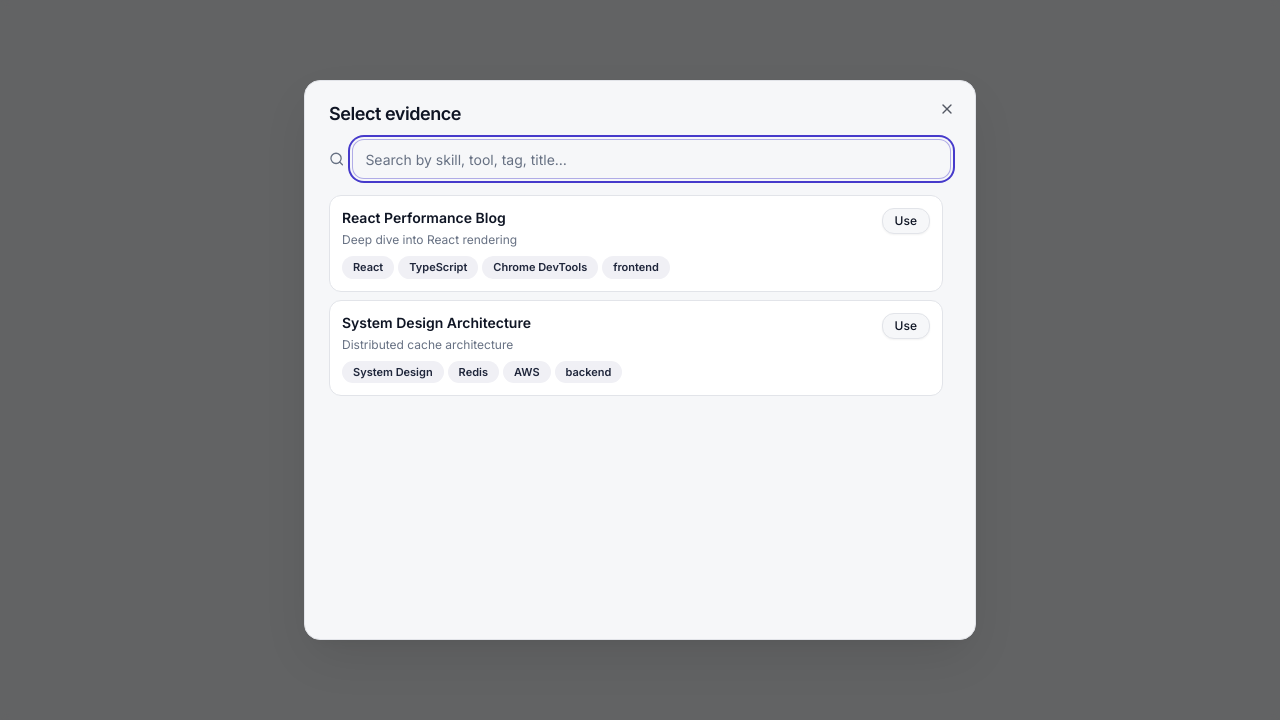
Test: EvidencePicker › filters evidence items by skill search
In the field with placeholder "Search by skill, tool, tag, title…": (652, 159) 352,139 -> 951,179, type "redis"
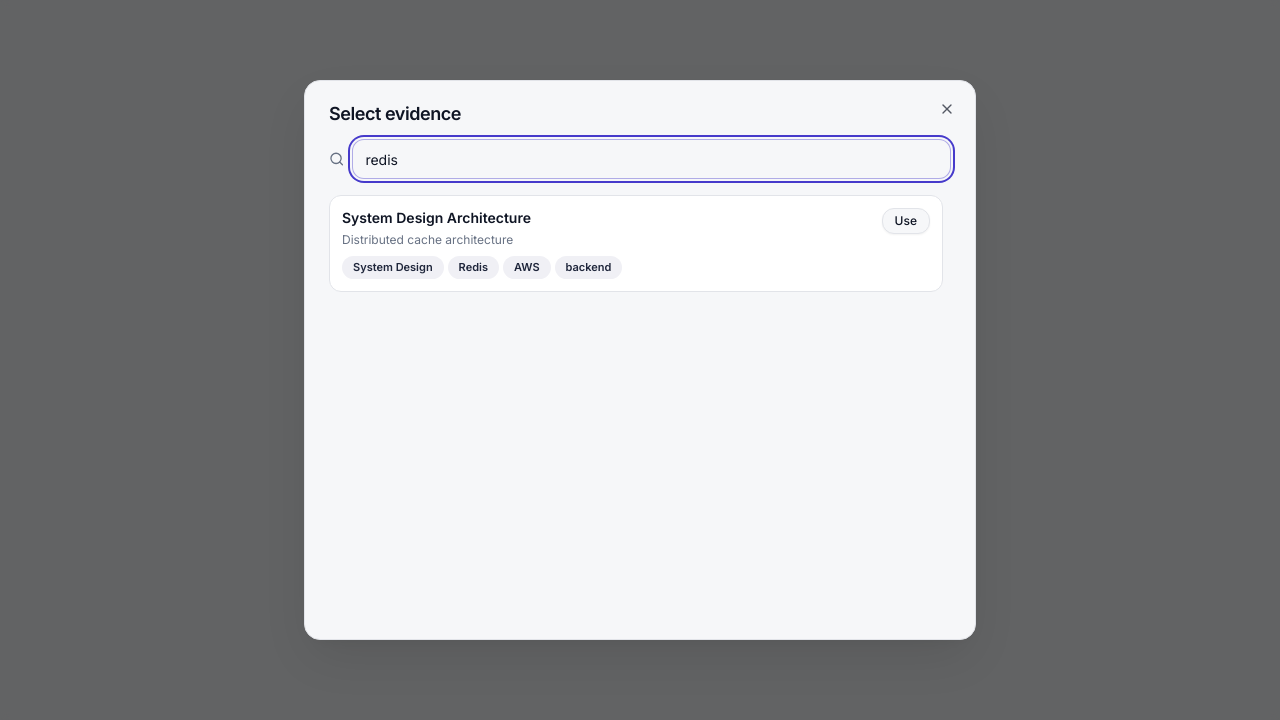
Check: the text "System Design Architecture" is shown, box 342,209 -> 531,226
Check: the button "React Performance Blog" is gone
